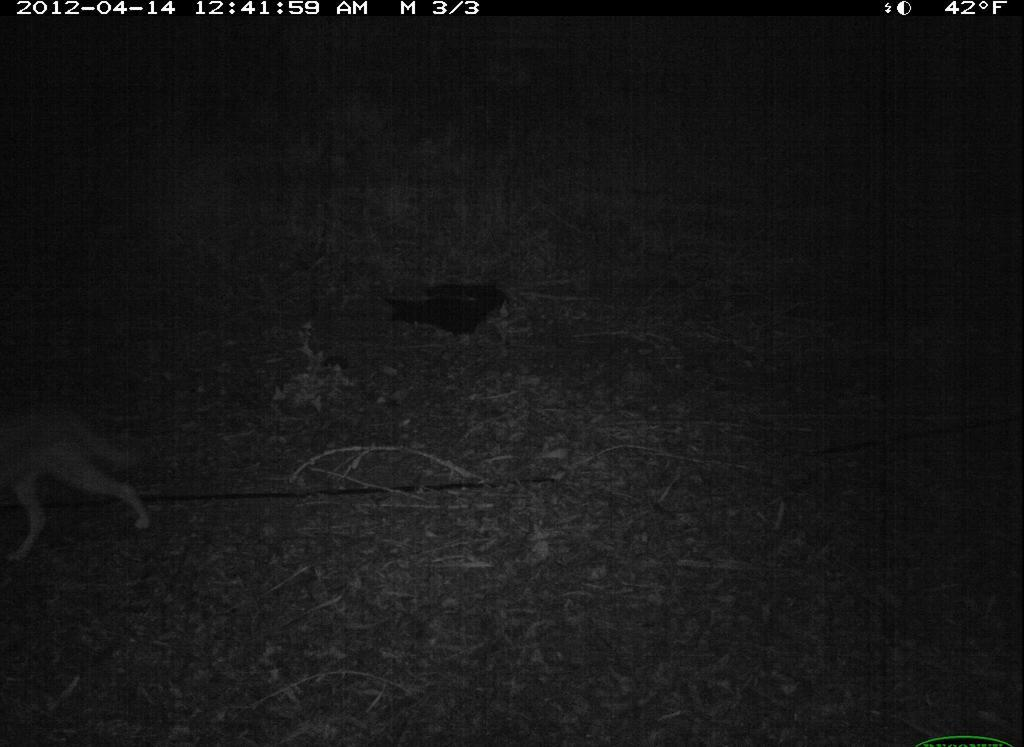coyote: (7, 396, 158, 566)
